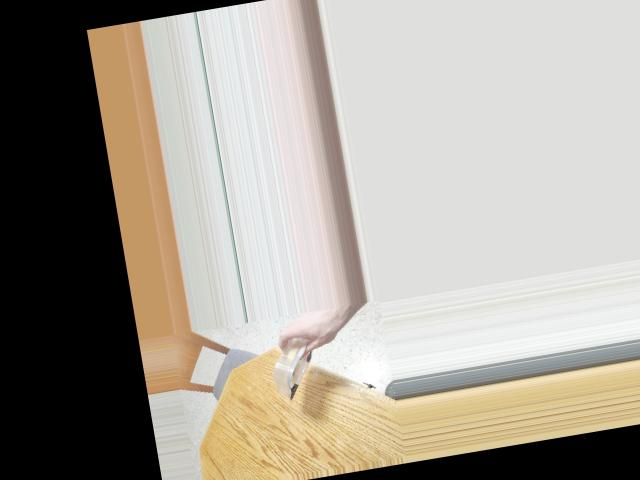cheese: (249, 317, 340, 391)
